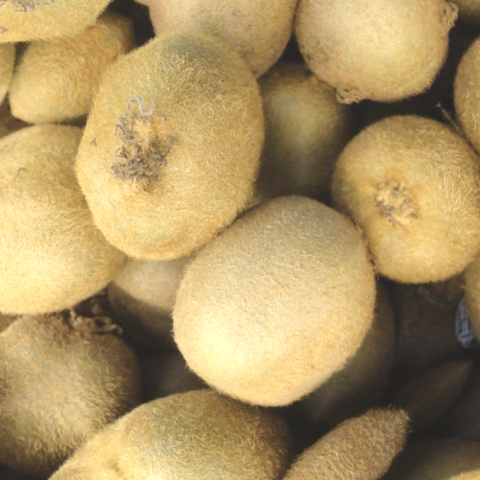kiwi: (121, 134, 448, 459), (10, 0, 337, 308), (287, 81, 480, 328), (0, 90, 172, 358)
